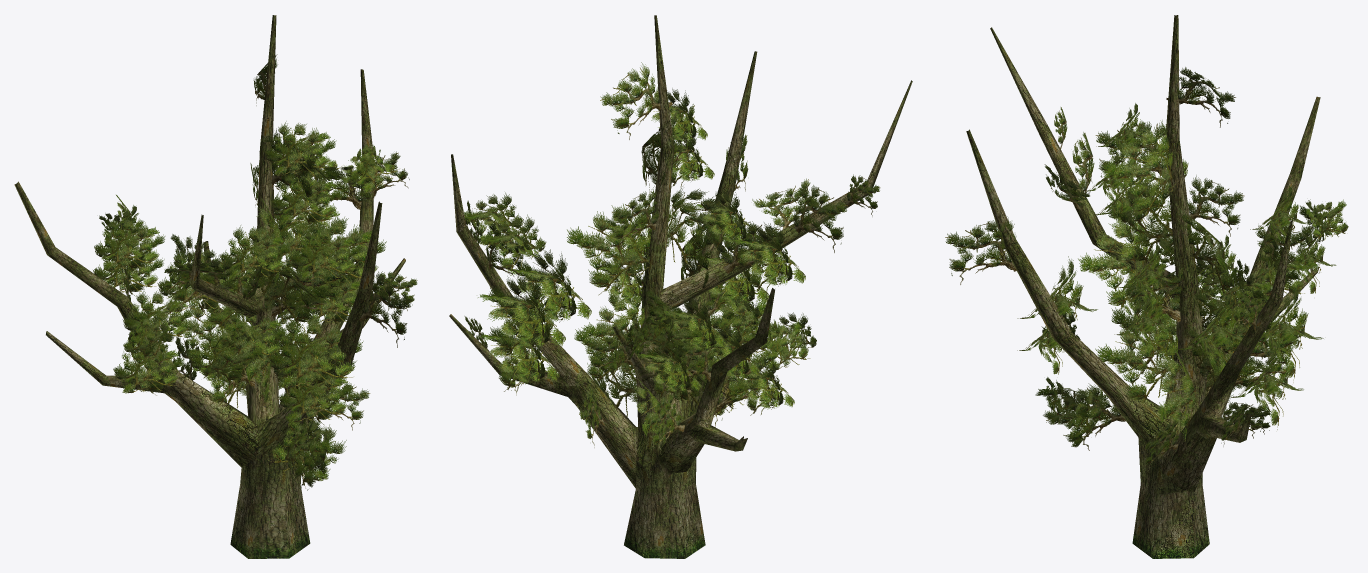
File: tre_pine06.glb
3 views of the same model, side by side, from view 1: azimuth 30°, elevation 25°; view 2: azimuth 150°, elevation 25°; view 3: azimuth 270°, elevation 25° (orthographic).
Parts seen in each view (by area): view 1: tre_pine06; view 2: tre_pine06; view 3: tre_pine06.
Part boxes in pixels (bbox=[...]): tre_pine06: bbox=[14, 15, 417, 558]; tre_pine06: bbox=[449, 15, 912, 558]; tre_pine06: bbox=[945, 15, 1348, 558].
Size of the model in its own units: 31.39 by 44.07 by 30.98.
4 materials, 4 textured.
